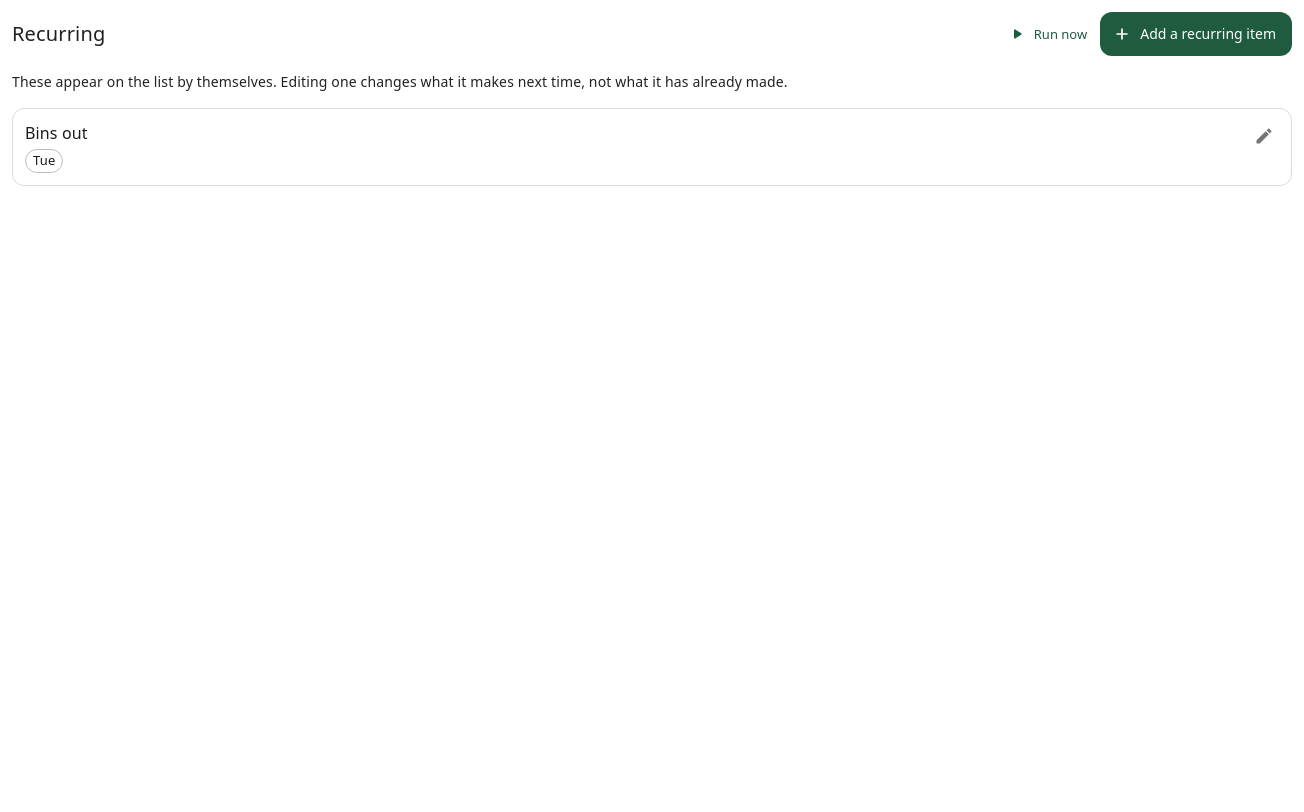
RecurrenceSection › runs the rules now, and says what happened
Click the button "Run now" at [1048, 34], box 1005,12 -> 1092,56
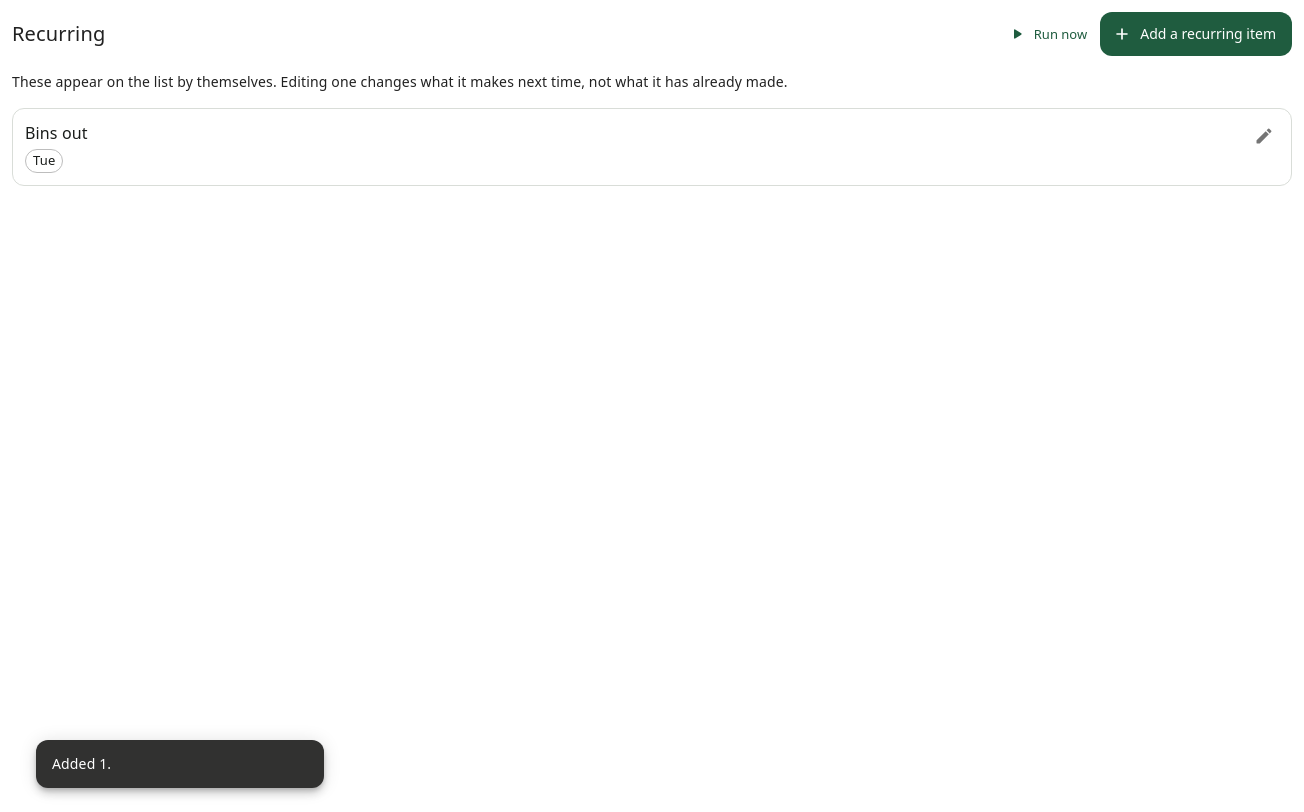
Now the text "Added 1." is shown, box 52,754 -> 111,773
